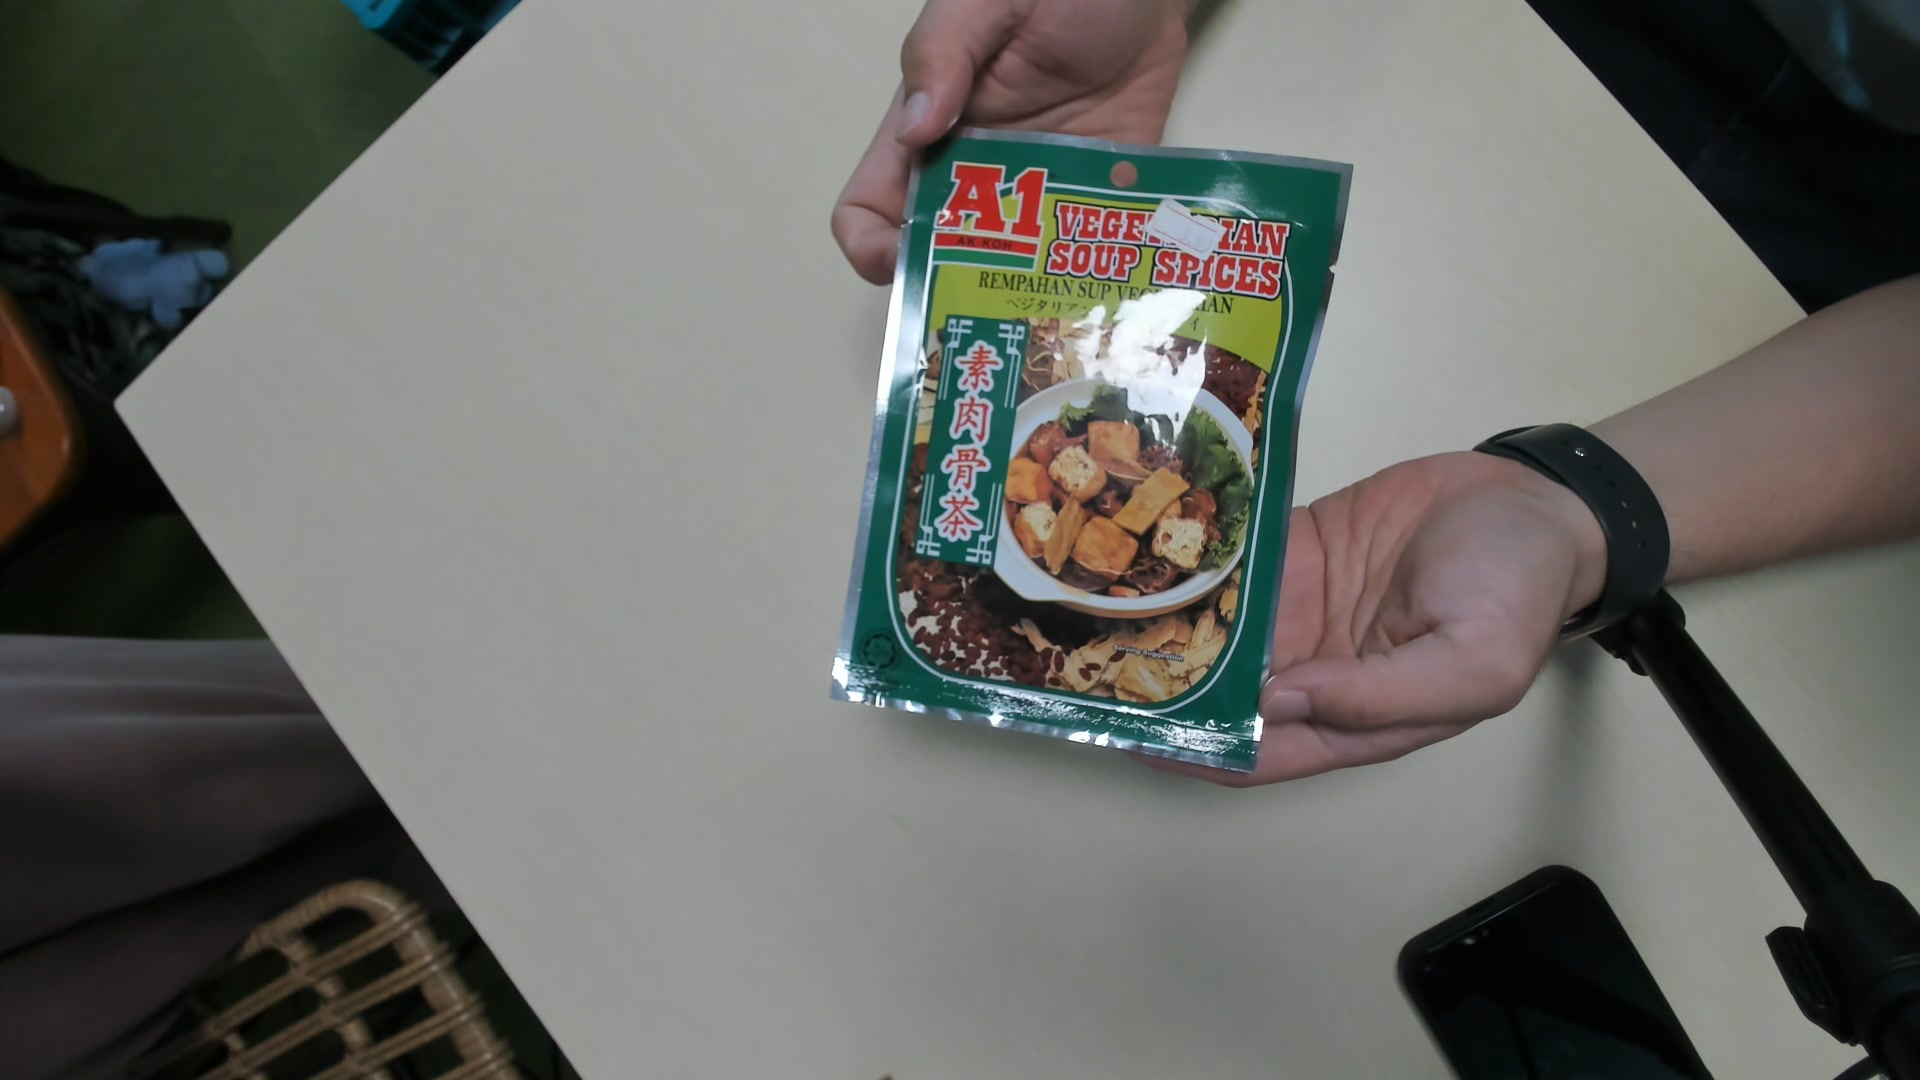OtherSauceDressing_0-99g_NonHalal_NonHealthy: (844, 124, 1348, 774)
